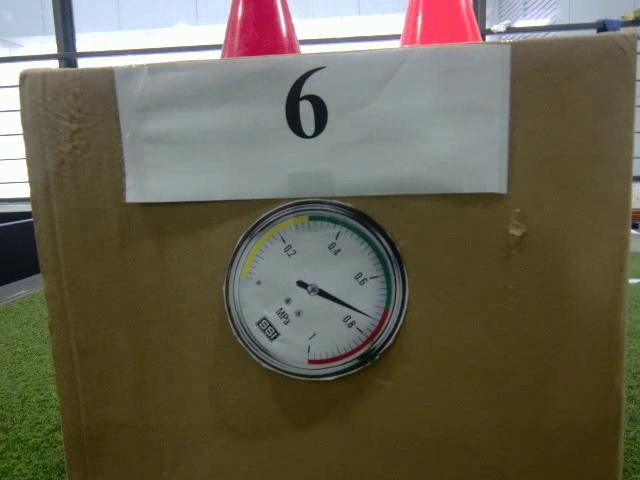6: (284, 67, 332, 139)
Dashboard: (225, 203, 408, 378)
orange_barrel: (396, 1, 489, 43)
red_barrel: (218, 0, 305, 54)
ssi: (255, 316, 281, 344)
